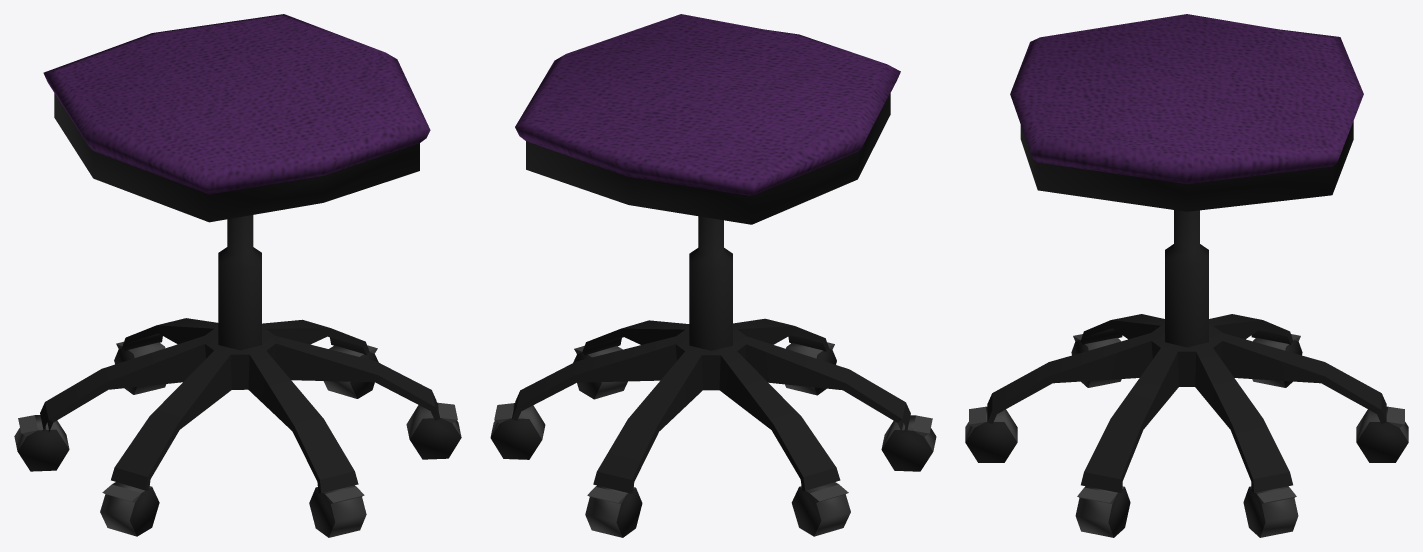
File: Computer_Stool_A.FBX
3 views of the same model, side by side, from view 1: azimuth 30°, elevation 25°; view 2: azimuth 150°, elevation 25°; view 3: azimuth 270°, elevation 25° (orthographic).
Parts seen in each view (by area): view 1: Computer_Stool; view 2: Computer_Stool; view 3: Computer_Stool.
Part boxes in pixels (x1=…): Computer_Stool: x1=14, y1=14, x2=461, y2=537; Computer_Stool: x1=490, y1=14, x2=936, y2=537; Computer_Stool: x1=965, y1=14, x2=1408, y2=537.
Bounding box in the file's own units: 76.63 × 75.5 × 81.44.
